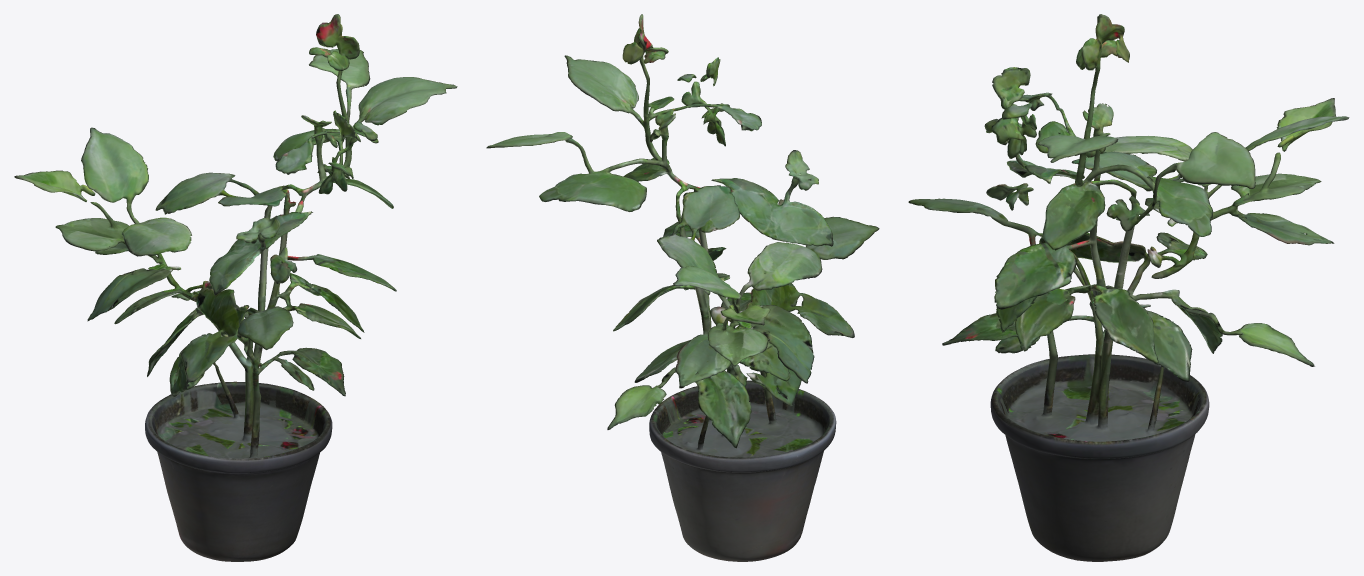
Rendered from shrub0031.gltf.
3 views of the same model, side by side, from view 1: azimuth 30°, elevation 25°; view 2: azimuth 150°, elevation 25°; view 3: azimuth 270°, elevation 25° (orthographic). The views are drawn at different scales.
Visible parts, largest first — view 1: Mesh_0; view 2: Mesh_0; view 3: Mesh_0.
Part boxes in pixels (x1=…): Mesh_0: x1=14, y1=14, x2=457, y2=561; Mesh_0: x1=486, y1=14, x2=879, y2=561; Mesh_0: x1=908, y1=14, x2=1349, y2=561.
Bounding box in the file's own units: 1.34 × 2 × 1.38.
Materials: 1 (1 with a texture image).
